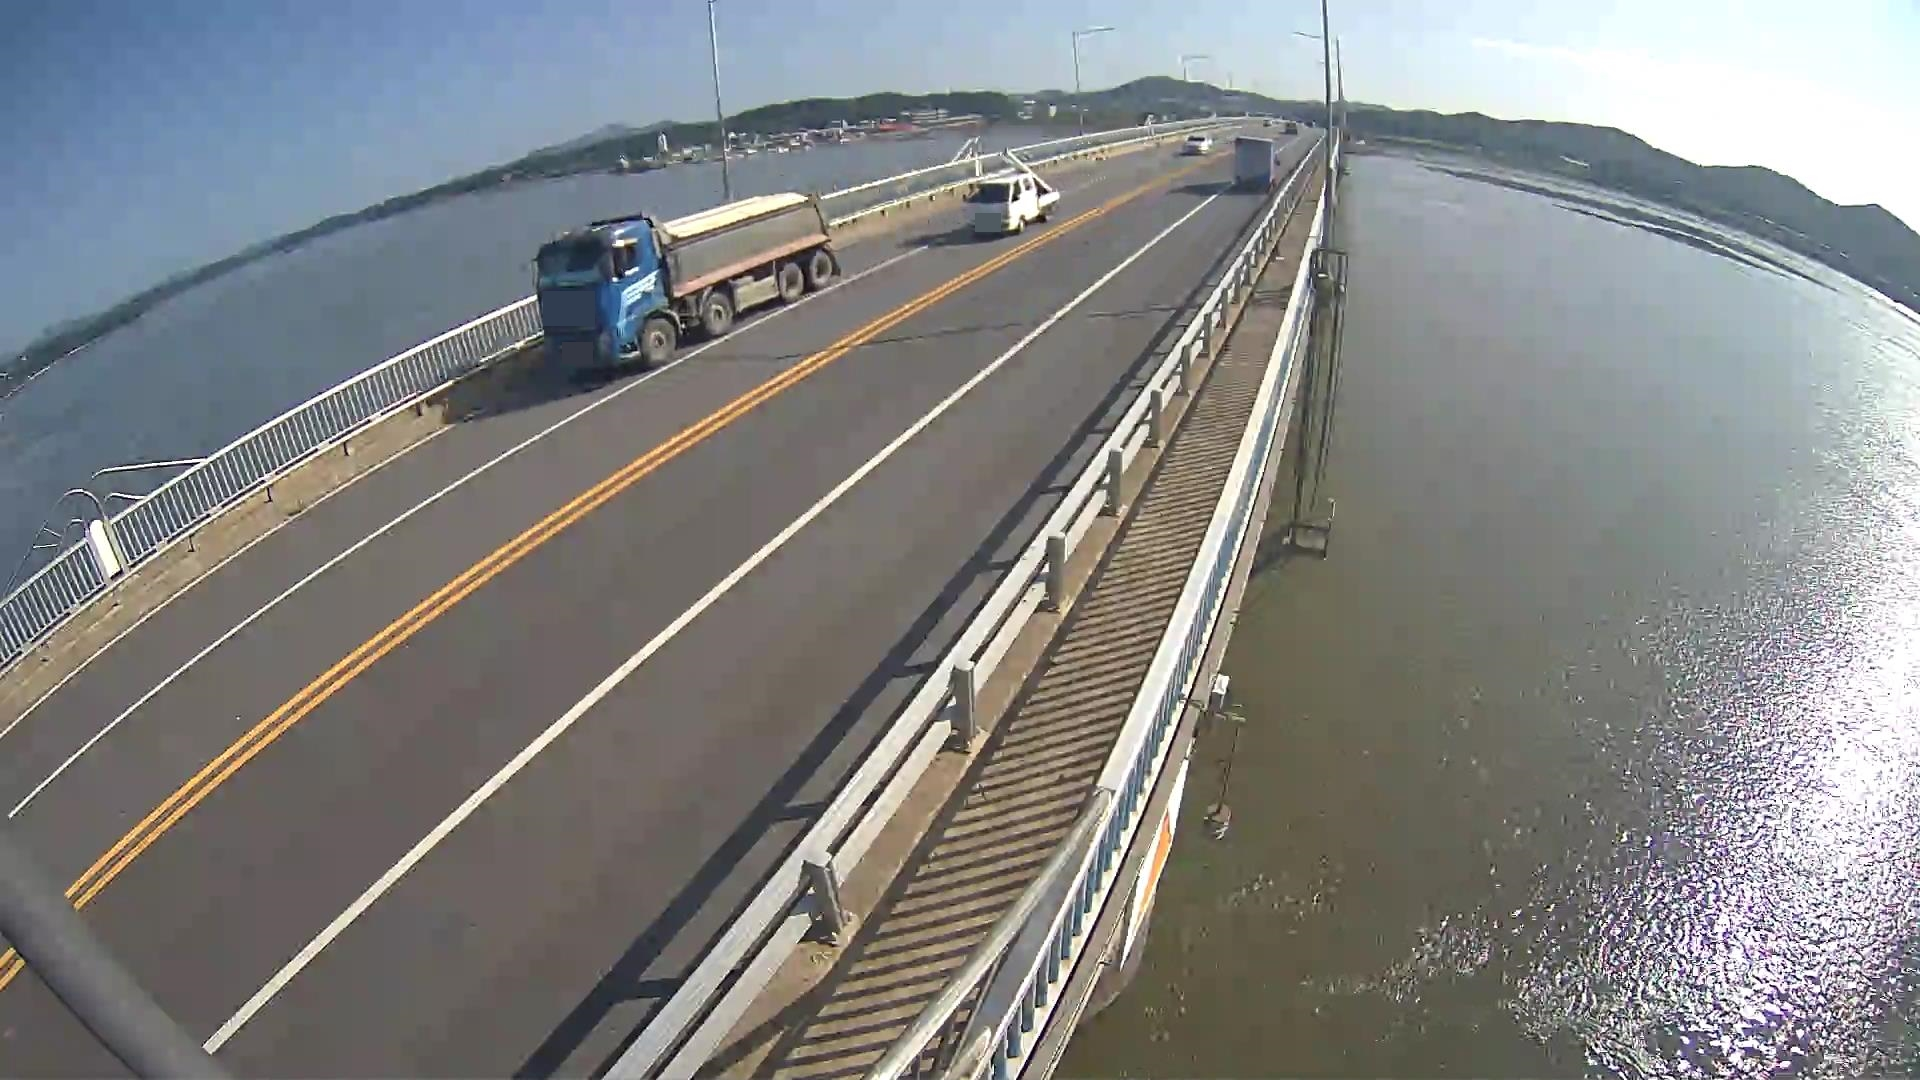정상차량: (530, 192, 841, 370)
